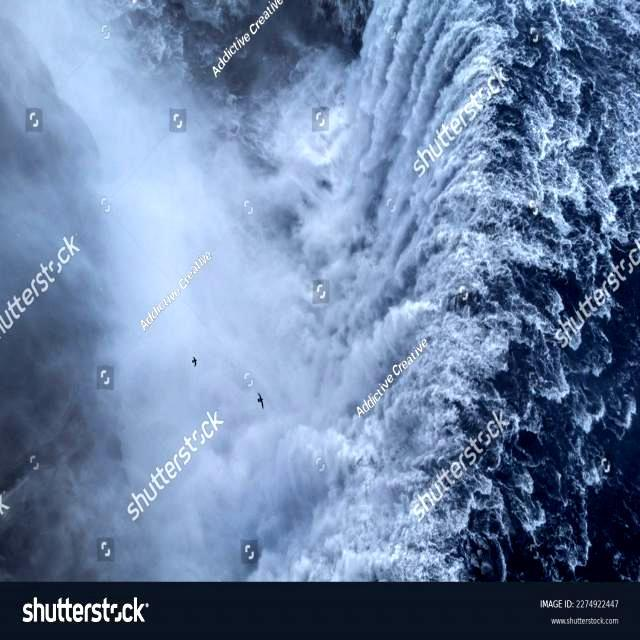bird: (251, 384, 269, 414), (187, 349, 203, 377)
